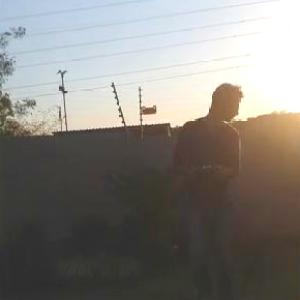follow: (167, 79, 248, 299)
